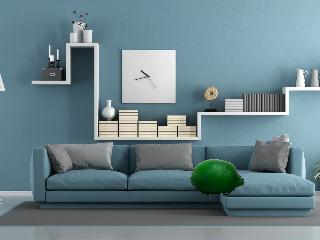lime: (186, 156, 246, 198)
